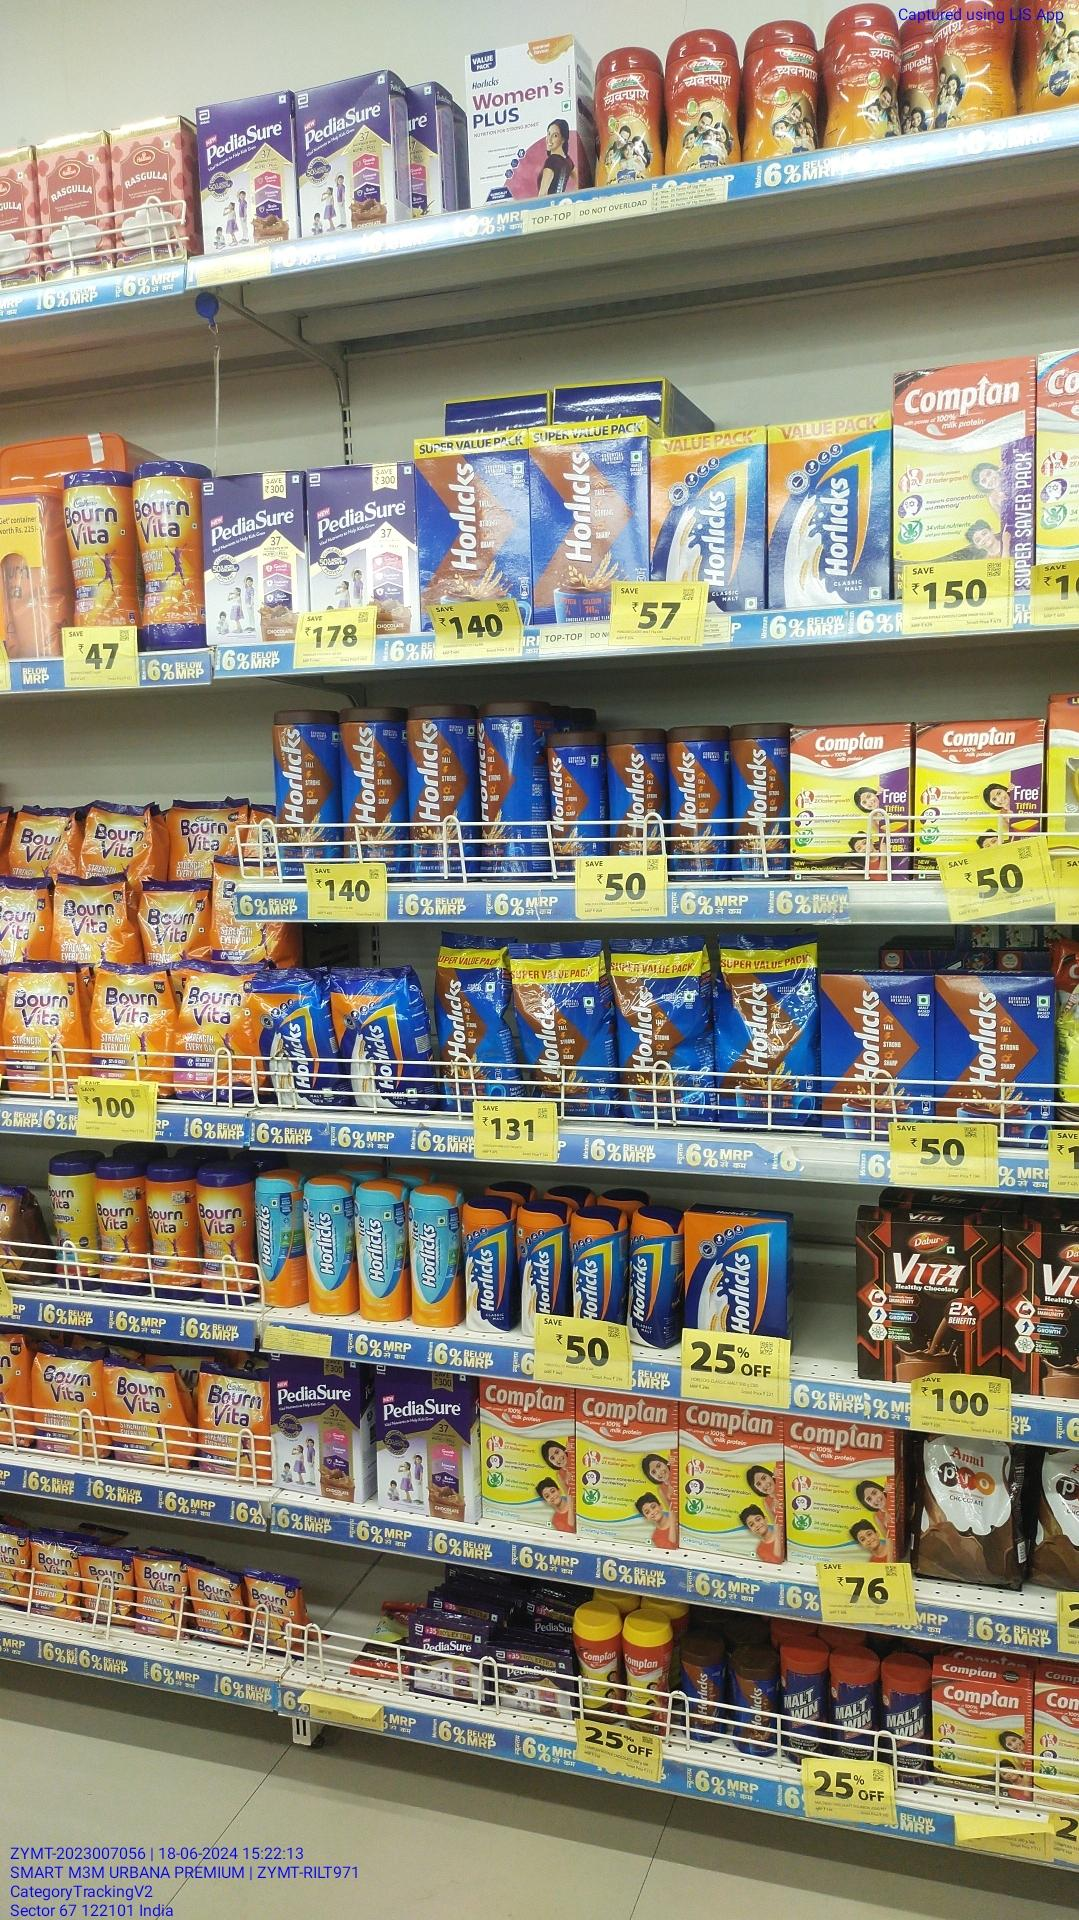BOURN_VITA_1_KG_JAR: (135, 459, 204, 651), (65, 465, 132, 630)
BOURN_VITA_500_G_JAR: (202, 1159, 255, 1303), (149, 1159, 198, 1302), (100, 1159, 148, 1295)
BOURN_VITA_500_G_POUCH: (107, 1356, 193, 1468), (197, 1361, 270, 1485), (33, 1342, 106, 1456)
BOURN_VITA_750_G_POUCH: (3, 963, 88, 1097), (174, 972, 252, 1108), (92, 961, 171, 1085)
BOURN_VITA_CHAMPS_500_G_JAR: (50, 1153, 98, 1291)
COMPLAN_CHOCOLATE_1_KG_PACK: (898, 359, 1037, 592)
COMPLAN_CHOCOLATE_200_GMS_JAR: (620, 1609, 669, 1734), (576, 1600, 619, 1722)
COMPLAN_CHOCOLATE_500_GMS_PACK: (790, 725, 913, 881), (917, 720, 1045, 853), (933, 1677, 1034, 1800)
COMPLAN_CREAMY_CLASSIC_500_G_PACK: (679, 1404, 785, 1561), (579, 1391, 678, 1548), (787, 1420, 896, 1563), (481, 1385, 575, 1532)
HORLICKS_LITE_REGULAR_MALT_500_GM_JAR: (409, 1183, 463, 1329), (306, 1171, 357, 1316), (360, 1178, 406, 1320), (257, 1166, 303, 1307)
HORLICK_CHOCOLATE_1_KG_JAR: (412, 702, 480, 881), (273, 709, 342, 882), (343, 702, 408, 878), (481, 700, 541, 880)
HORLICK_CHOCOLATE_1_KG_PACK: (536, 421, 645, 625), (418, 433, 533, 622)
HORLICK_CHOCOLATE_200_G_JAR: (729, 1640, 781, 1755), (679, 1626, 727, 1742)
HORLICK_CHOCOLATE_500_G_JAR: (731, 723, 789, 880), (671, 728, 728, 876), (607, 728, 666, 857), (549, 731, 604, 865)
HORLICK_CHOCOLATE_500_G_PACK: (938, 975, 1051, 1142), (823, 969, 933, 1139)
HORLICK_CHOCOLATE_750_G_POUCH: (716, 932, 820, 1125), (615, 938, 711, 1120), (520, 942, 608, 1116), (439, 934, 517, 1113)
HORLICK_CLASSIC_MALT_500_G_JAR: (516, 1199, 569, 1335), (632, 1204, 681, 1348), (466, 1196, 514, 1333), (571, 1204, 629, 1317)
HORLICK_CLASSIC_MALT_500_G_PACK: (649, 423, 768, 611), (769, 418, 886, 605), (686, 1213, 786, 1335)
HORLICK_CLASSIC_MALT_750_G_POUCH: (335, 967, 435, 1109), (256, 971, 332, 1105)
PEDIASURE_CHOCOLATE_500_G_PACK: (207, 475, 313, 647), (315, 467, 417, 634), (302, 74, 394, 233), (200, 91, 294, 245), (375, 1371, 472, 1519), (273, 1356, 361, 1501)
